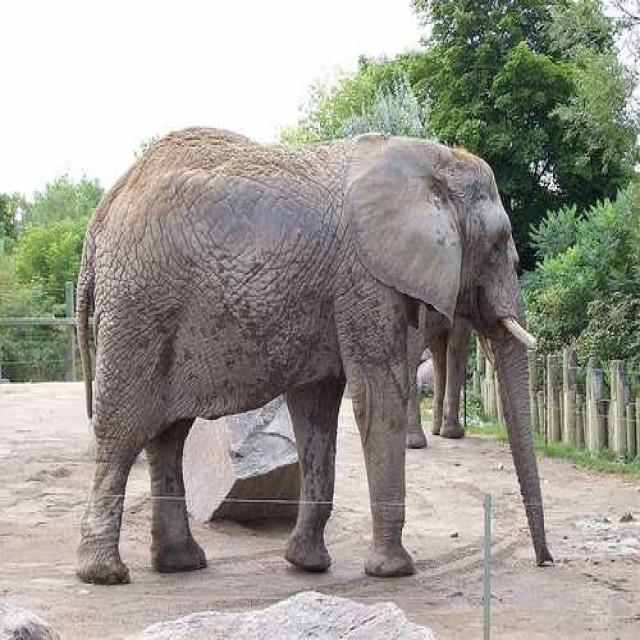Elephant: (73, 123, 554, 584)
